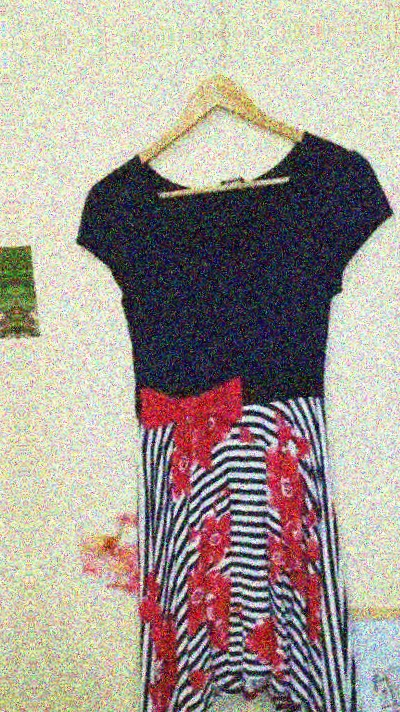Dress: (53, 98, 400, 712)
